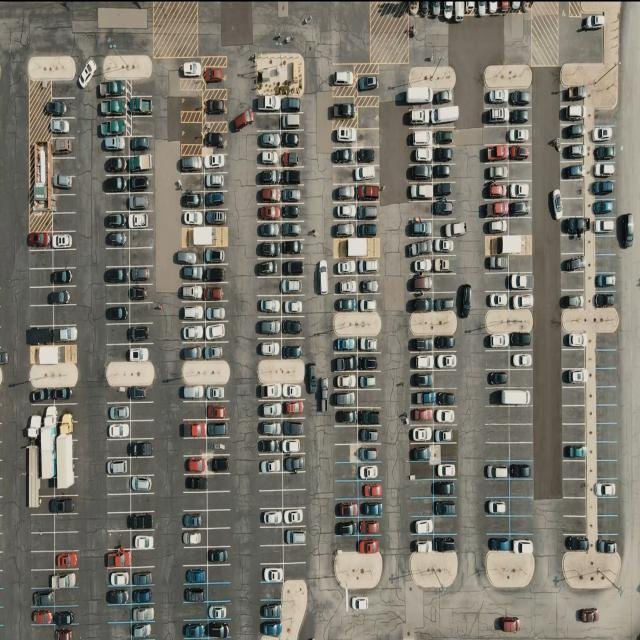space-empty: (481, 349, 508, 370), (29, 305, 54, 327), (106, 528, 131, 549), (356, 106, 379, 128), (106, 323, 130, 344), (435, 370, 459, 391), (560, 348, 585, 368), (257, 276, 282, 296), (561, 386, 586, 406), (561, 478, 586, 498), (559, 198, 584, 218), (183, 490, 208, 510), (180, 400, 205, 420), (129, 456, 154, 476), (28, 250, 54, 269), (129, 230, 155, 249), (560, 406, 586, 425), (484, 442, 510, 461), (486, 407, 512, 426), (509, 162, 533, 182), (510, 368, 534, 388), (130, 115, 154, 135), (54, 306, 78, 326), (260, 526, 284, 546), (410, 460, 434, 480), (53, 211, 77, 231), (207, 490, 231, 510), (208, 510, 232, 530), (30, 286, 54, 306), (130, 402, 154, 422), (594, 236, 618, 256), (482, 127, 507, 146), (54, 588, 79, 607), (53, 194, 78, 213), (178, 173, 203, 192), (510, 480, 535, 499), (562, 459, 587, 478), (106, 493, 131, 512), (560, 179, 585, 198), (560, 235, 585, 254), (29, 269, 54, 288), (104, 192, 129, 211), (30, 532, 55, 551), (434, 274, 459, 293), (31, 552, 56, 571), (484, 480, 510, 498), (486, 516, 512, 534), (256, 112, 282, 130), (129, 248, 155, 266), (407, 201, 433, 219), (180, 124, 203, 144), (261, 545, 284, 565), (335, 424, 358, 444), (595, 349, 618, 369), (283, 561, 306, 581), (106, 284, 130, 303), (434, 516, 458, 535), (208, 563, 232, 582), (104, 248, 128, 267), (562, 424, 586, 443), (183, 547, 207, 566), (131, 420, 155, 439), (31, 515, 55, 534), (106, 513, 130, 532), (130, 78, 154, 97), (484, 272, 508, 291), (355, 129, 379, 148), (510, 424, 534, 443), (260, 489, 284, 508), (510, 497, 534, 516), (208, 528, 232, 547), (562, 497, 586, 516), (486, 424, 510, 443), (182, 439, 206, 458), (208, 584, 232, 603), (435, 444, 459, 463), (105, 477, 130, 495), (131, 493, 156, 511), (510, 443, 535, 461), (182, 601, 207, 619), (52, 80, 77, 98), (509, 406, 534, 424), (130, 304, 152, 324), (596, 442, 618, 462), (105, 439, 128, 458), (357, 389, 380, 408), (56, 531, 79, 550), (31, 569, 54, 588), (56, 514, 79, 533), (596, 386, 619, 405), (409, 479, 432, 498), (207, 474, 230, 493), (334, 462, 357, 481), (509, 217, 533, 235), (53, 159, 77, 177), (560, 273, 584, 291), (107, 604, 131, 622), (260, 474, 284, 492), (509, 254, 533, 272), (179, 94, 203, 112), (334, 481, 358, 499), (595, 333, 619, 351), (562, 516, 586, 534), (409, 497, 434, 514), (55, 249, 77, 268), (596, 405, 618, 424), (596, 256, 618, 275), (596, 423, 618, 442), (596, 367, 618, 386), (282, 489, 304, 508), (596, 515, 618, 534), (283, 546, 306, 564), (333, 166, 356, 184), (132, 550, 155, 568), (592, 108, 615, 126), (510, 517, 534, 534), (108, 623, 132, 640), (262, 584, 284, 602), (596, 460, 618, 478), (336, 534, 358, 552), (595, 498, 617, 516), (281, 472, 304, 489), (105, 386, 128, 403), (106, 346, 130, 362), (334, 445, 356, 462), (31, 626, 55, 640), (182, 112, 206, 125), (357, 96, 379, 110), (334, 85, 357, 98)
space-occupied: (490, 386, 532, 405), (100, 134, 128, 156), (99, 116, 129, 136), (406, 106, 434, 127), (98, 98, 127, 118), (204, 94, 228, 118), (591, 215, 618, 236), (588, 178, 616, 198), (203, 64, 227, 87), (256, 316, 281, 338), (332, 125, 357, 147), (334, 65, 356, 90), (408, 181, 434, 202), (433, 105, 459, 126), (48, 98, 74, 119), (100, 78, 127, 98), (560, 142, 587, 162), (560, 215, 587, 235), (407, 238, 434, 258), (333, 99, 357, 121), (51, 136, 76, 157), (258, 296, 283, 317), (128, 210, 154, 230), (482, 106, 508, 126), (49, 118, 75, 138), (484, 458, 510, 478), (560, 124, 586, 144), (483, 162, 509, 182), (408, 292, 434, 312), (560, 103, 586, 123), (182, 620, 208, 640), (408, 423, 434, 443), (483, 200, 509, 220), (482, 333, 509, 352), (332, 389, 359, 408), (180, 58, 202, 81), (510, 348, 534, 369), (129, 95, 153, 116), (561, 368, 585, 389), (105, 304, 129, 325), (434, 291, 458, 312), (258, 338, 282, 359), (129, 475, 154, 495), (129, 156, 154, 176), (129, 266, 154, 286), (181, 511, 206, 531), (28, 231, 53, 251), (409, 443, 434, 463), (332, 148, 357, 168), (408, 217, 433, 237), (179, 282, 204, 302), (178, 154, 203, 174), (179, 303, 204, 323), (509, 272, 534, 292), (484, 495, 509, 515), (560, 289, 585, 309), (560, 162, 585, 182), (334, 275, 359, 295), (590, 126, 616, 145), (483, 181, 509, 200), (102, 157, 128, 176), (482, 144, 508, 163), (104, 174, 130, 193), (179, 383, 205, 402), (410, 388, 436, 407), (591, 199, 617, 218), (408, 274, 434, 293), (482, 217, 508, 236), (563, 533, 589, 552), (407, 129, 433, 148), (406, 89, 433, 107), (282, 316, 304, 338), (281, 339, 304, 360), (129, 136, 153, 156), (281, 297, 305, 317), (261, 508, 285, 528), (435, 350, 459, 370), (106, 230, 130, 250), (56, 551, 80, 571), (204, 282, 228, 302), (484, 288, 508, 308), (106, 550, 130, 570), (106, 402, 130, 422), (354, 164, 378, 184), (56, 324, 80, 344), (184, 527, 208, 547), (183, 474, 207, 494), (130, 440, 154, 460), (485, 369, 509, 389), (180, 321, 204, 341), (281, 398, 305, 418), (107, 567, 131, 587), (280, 436, 304, 456), (562, 443, 587, 462), (104, 210, 129, 229), (104, 267, 129, 286), (129, 192, 154, 211), (257, 220, 282, 239), (509, 290, 534, 309), (181, 419, 206, 438), (408, 164, 433, 183), (409, 516, 434, 535), (334, 293, 359, 312), (356, 481, 381, 500), (409, 352, 434, 371), (410, 370, 435, 389), (259, 418, 284, 437), (408, 255, 433, 274), (259, 401, 284, 420), (29, 325, 54, 344), (488, 387, 513, 406), (408, 408, 434, 426), (560, 86, 586, 104), (354, 445, 380, 463), (487, 534, 513, 552), (130, 322, 152, 343), (356, 74, 378, 95), (262, 563, 285, 583), (204, 153, 227, 173), (204, 302, 227, 322), (281, 276, 304, 296), (260, 454, 283, 474), (204, 321, 227, 341), (204, 264, 227, 284), (52, 174, 76, 193), (510, 460, 534, 479), (509, 180, 533, 199), (562, 332, 586, 351), (184, 565, 208, 584), (106, 419, 130, 438), (52, 232, 76, 251), (409, 145, 433, 164), (258, 148, 282, 167), (484, 89, 508, 108), (433, 256, 457, 275), (53, 495, 77, 514), (280, 453, 304, 472), (354, 183, 378, 202), (256, 184, 280, 203), (592, 162, 616, 181), (334, 372, 358, 391), (334, 353, 358, 372), (510, 533, 534, 552), (179, 190, 204, 208), (560, 256, 585, 274), (257, 241, 282, 259), (258, 204, 283, 222), (255, 260, 280, 278), (335, 336, 360, 354), (178, 266, 203, 284), (431, 480, 456, 498), (355, 462, 380, 480), (591, 143, 616, 161), (336, 497, 358, 517), (208, 600, 230, 620), (54, 284, 76, 304), (334, 202, 356, 222), (206, 130, 228, 150), (282, 508, 304, 528), (596, 534, 618, 554), (261, 620, 283, 640), (132, 566, 154, 586), (54, 268, 77, 287), (204, 171, 227, 190), (509, 143, 532, 162), (55, 568, 78, 587), (182, 456, 205, 475), (433, 129, 456, 148), (207, 419, 230, 438), (281, 259, 304, 278), (281, 240, 304, 259), (434, 237, 457, 256), (206, 455, 229, 474), (280, 149, 303, 168), (334, 183, 357, 202), (129, 283, 152, 302), (206, 402, 229, 421), (435, 407, 458, 426), (595, 272, 618, 291), (595, 480, 618, 499), (208, 621, 231, 640), (132, 513, 155, 532), (132, 531, 156, 549), (509, 200, 533, 218), (203, 190, 227, 208), (355, 146, 379, 164), (434, 335, 458, 353), (510, 333, 534, 351), (254, 95, 278, 113), (357, 518, 381, 536), (130, 174, 154, 192), (485, 254, 509, 272), (258, 131, 282, 149), (410, 336, 434, 354), (54, 606, 78, 624), (183, 585, 207, 603), (358, 498, 382, 516), (281, 418, 305, 436), (260, 438, 284, 456), (178, 248, 202, 266), (180, 210, 204, 228), (334, 408, 358, 426), (433, 534, 457, 552), (202, 342, 226, 360), (410, 534, 434, 552), (202, 247, 227, 264), (208, 547, 230, 566), (31, 589, 53, 608), (434, 164, 456, 183), (106, 457, 128, 476), (510, 106, 532, 125), (280, 96, 302, 115), (432, 181, 454, 200), (356, 352, 378, 371), (358, 276, 380, 295), (262, 600, 284, 619), (130, 344, 152, 363), (54, 383, 76, 402), (434, 218, 456, 237), (509, 126, 532, 144), (32, 609, 55, 627), (132, 587, 155, 605), (281, 220, 304, 238), (354, 221, 377, 239), (435, 426, 458, 444), (356, 409, 379, 427), (132, 603, 155, 621), (32, 386, 55, 404), (434, 498, 457, 516), (594, 290, 617, 308), (180, 343, 203, 361), (356, 535, 379, 553), (108, 588, 132, 605), (434, 461, 458, 478), (357, 256, 378, 275), (283, 527, 305, 545), (510, 90, 532, 108), (356, 203, 378, 221), (280, 131, 302, 149), (258, 169, 280, 187), (205, 384, 227, 402), (436, 388, 458, 406), (434, 201, 456, 219), (281, 204, 303, 222), (357, 425, 379, 443), (131, 622, 153, 640), (334, 219, 356, 237), (336, 518, 359, 535), (259, 384, 282, 401), (336, 260, 359, 277), (204, 210, 227, 227), (280, 170, 303, 187), (357, 372, 378, 390), (357, 296, 378, 314), (434, 146, 456, 163), (357, 337, 379, 354), (281, 383, 303, 400), (280, 185, 302, 202), (431, 91, 454, 107), (182, 142, 205, 158), (205, 120, 228, 136), (280, 114, 302, 130), (255, 69, 273, 88), (130, 387, 152, 402), (54, 626, 74, 640)
